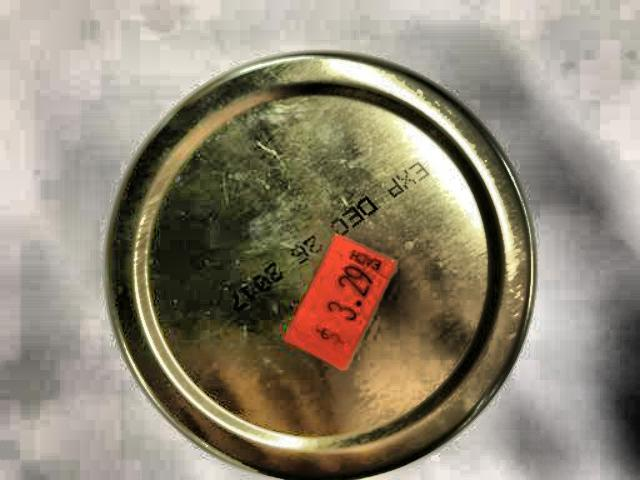Almennt: (91, 30, 552, 477)
